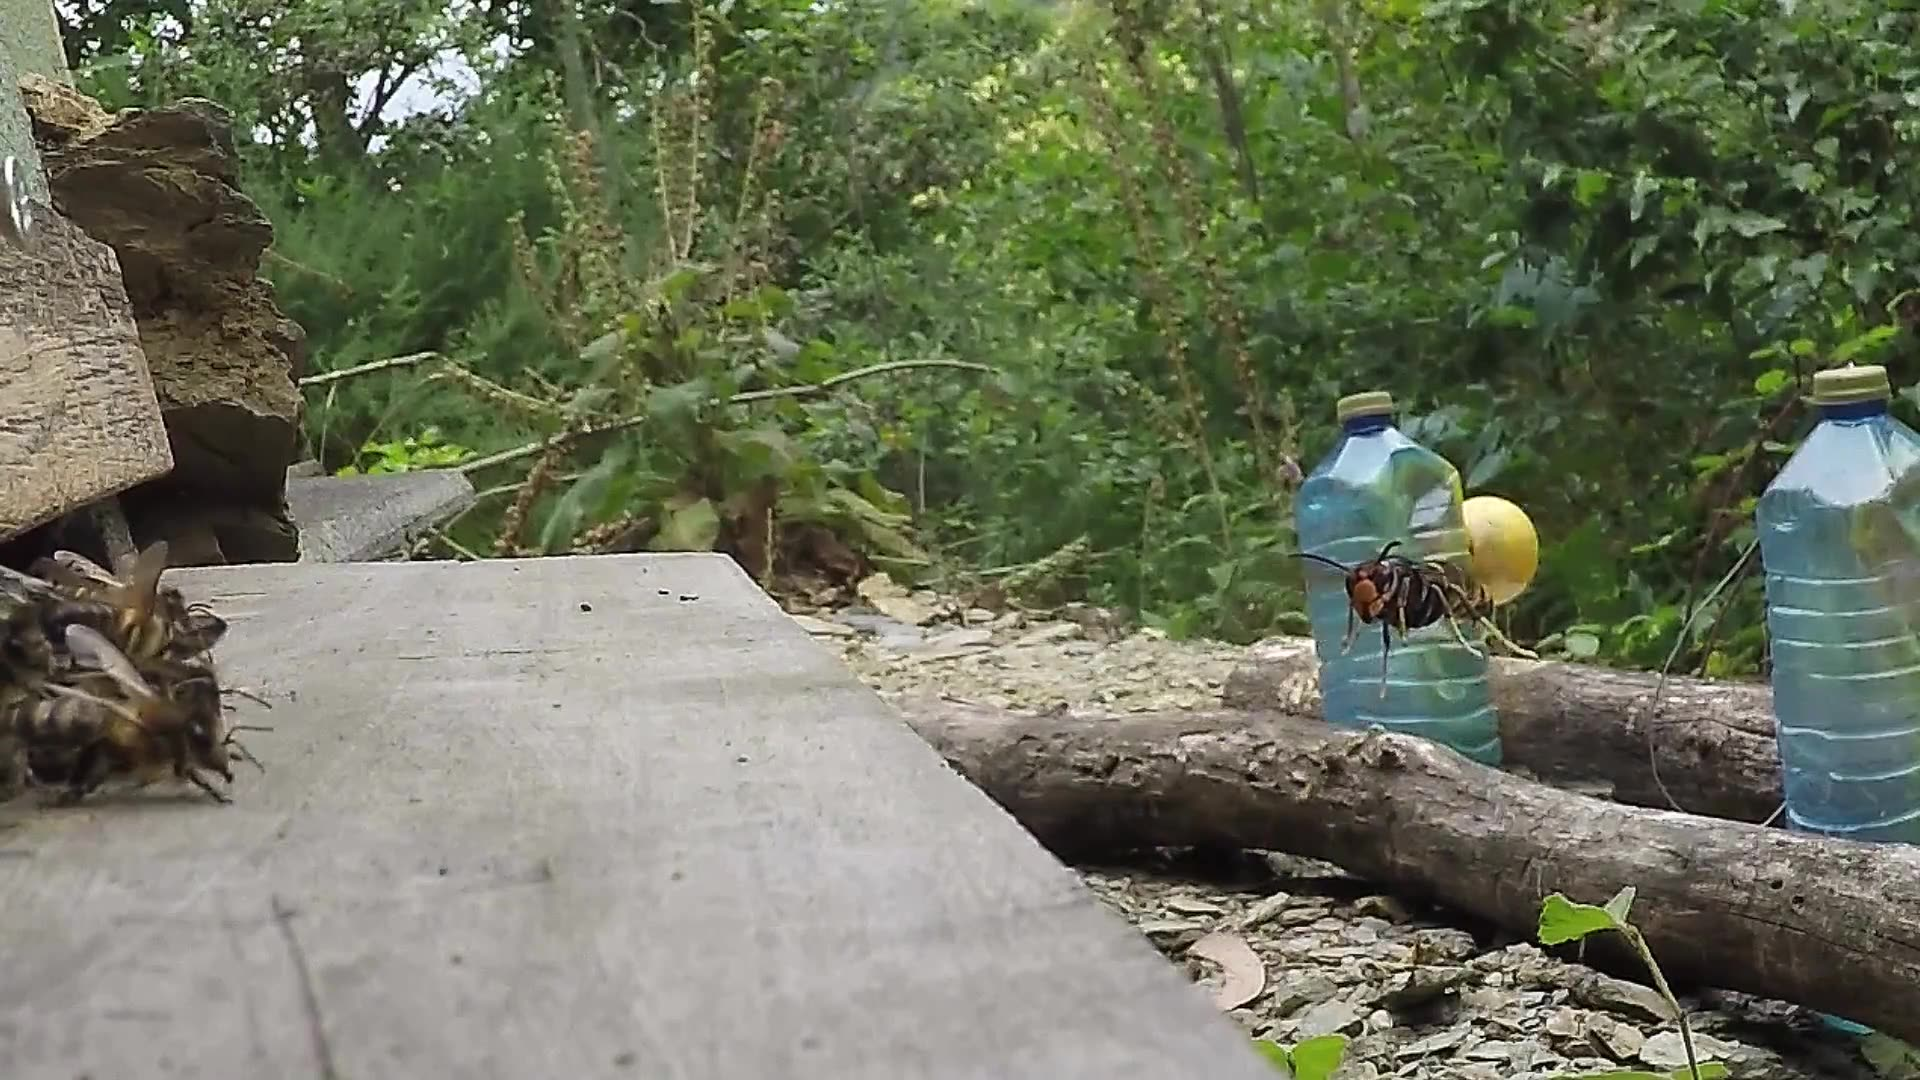bee: (1, 538, 251, 822)
hornet: (1337, 537, 1511, 646)
